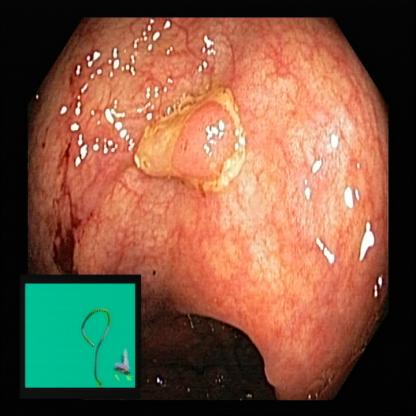Labels: (25, 276, 136, 396)
Polyps: (137, 93, 247, 188)
